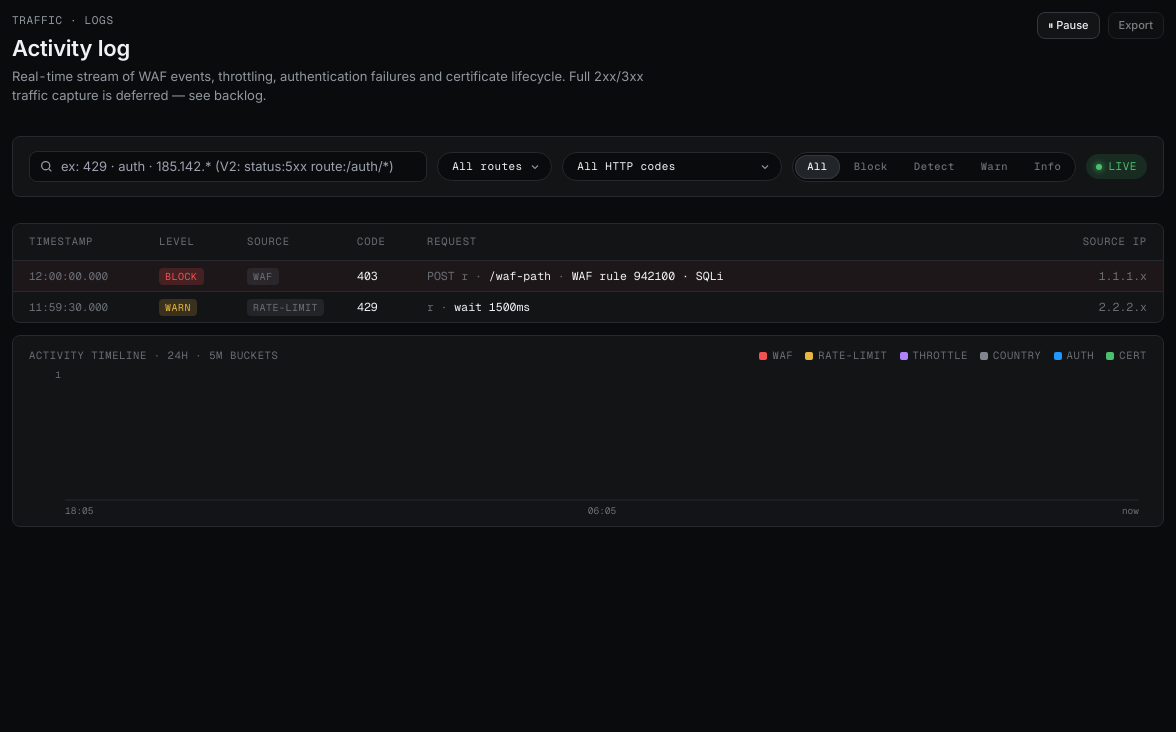
Scenario: /logs — Phase Z.5.2 filters › selecting code=429 keeps only rate-limit rows
Expected: the text "/waf-path" is shown, [482,268,551,283]
Expected: the text "wait 1500ms" is shown, [454,299,530,314]
Select "429 · Too Many Requests (rate limit)" in the dropdown named "Filter by HTTP code" at (672, 167), box [562,152,782,181]
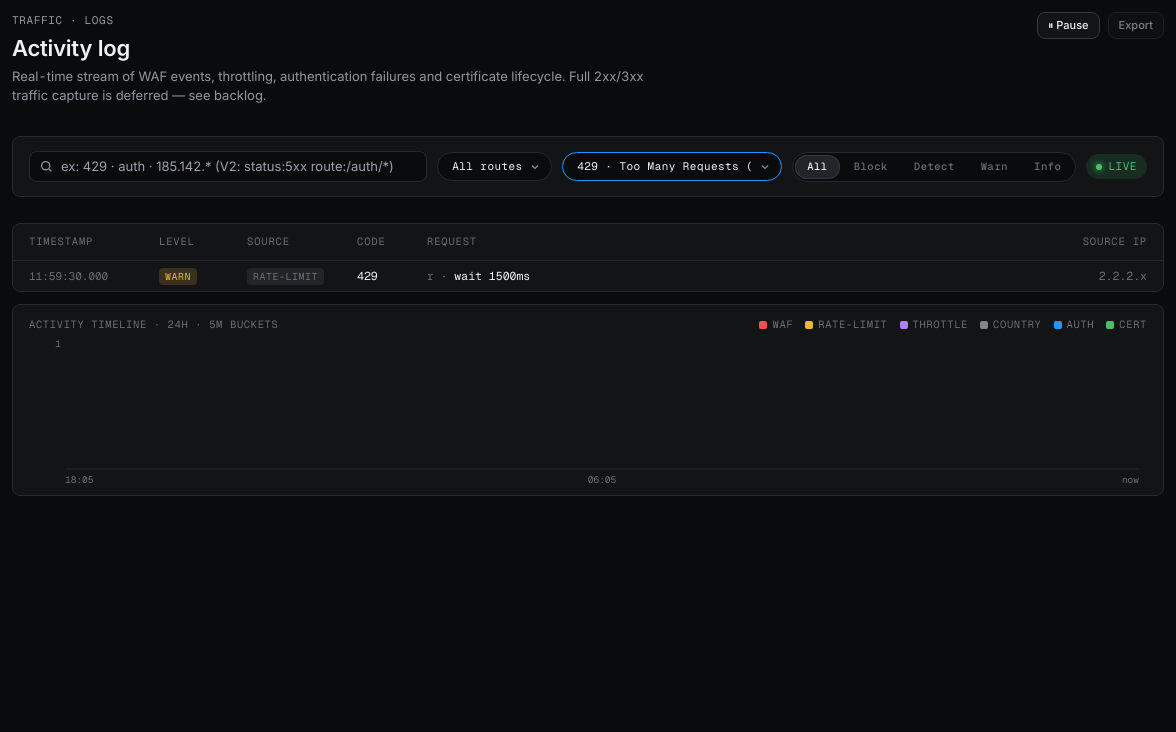
Expected: the text "wait 1500ms" is shown, [454,268,530,283]
Result: the text "/waf-path" is gone
